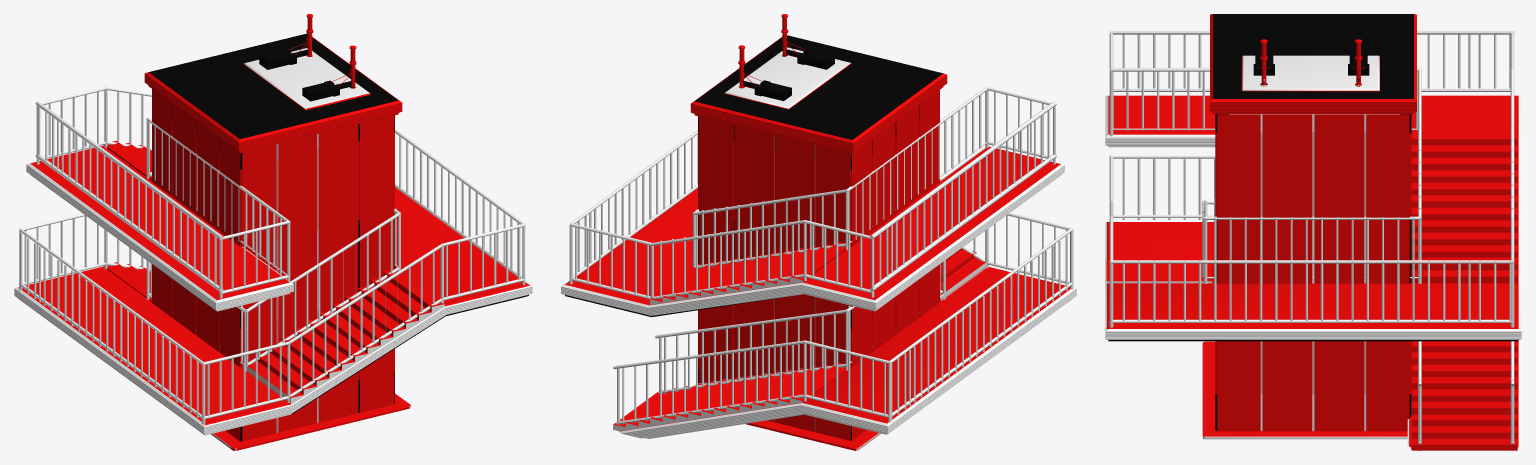
The picture shows the model from 3 angles, left to right: view 1: azimuth 30°, elevation 25°; view 2: azimuth 150°, elevation 25°; view 3: azimuth 270°, elevation 25°; orthographic projection. The views are drawn at different scales.
Parts seen in each view (by area): view 1: f_unit_02; view 2: f_unit_02; view 3: f_unit_02.
Boxes of the visible parts, <box> form: f_unit_02: <box>14,14,532,450</box>; f_unit_02: <box>561,14,1076,450</box>; f_unit_02: <box>1105,14,1521,450</box>.
Bounding box in the file's own units: 301 × 306 × 301.
